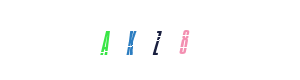8: (128, 0, 208, 80)
A: (65, 0, 145, 80)
K: (101, 0, 181, 80)
Z: (110, 0, 190, 80)
